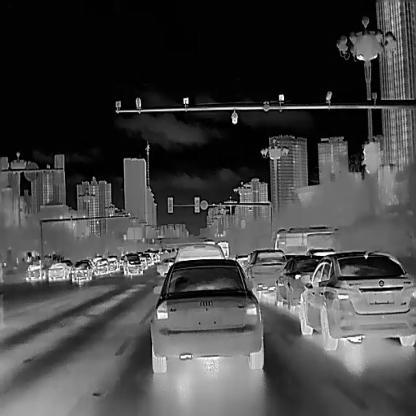car: (149, 259, 263, 372), (299, 250, 415, 351), (273, 255, 324, 311), (245, 248, 288, 292), (273, 226, 337, 254), (70, 259, 92, 281), (122, 252, 142, 274), (47, 263, 69, 281), (24, 263, 45, 281), (94, 258, 109, 274), (105, 255, 118, 272), (217, 241, 228, 258)
